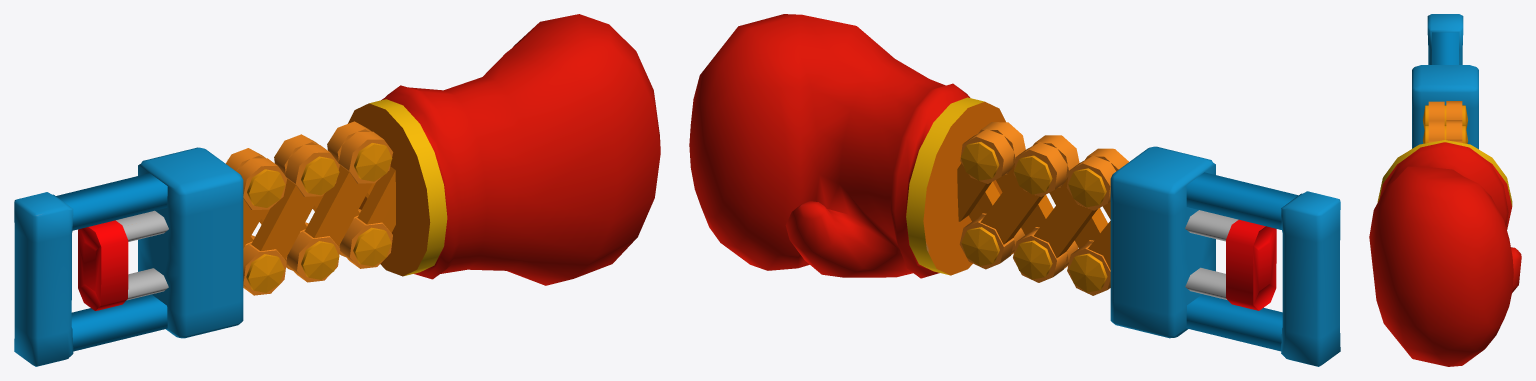
Rendered from BoxingGun (1).fbx.
The picture shows the model from 3 angles, left to right: view 1: azimuth 30°, elevation 25°; view 2: azimuth 150°, elevation 25°; view 3: azimuth 270°, elevation 25°; orthographic projection. The views are drawn at different scales.
Visible parts, largest first — view 1: Bone005, Object003, Bone009, Bone002, Bone007, Bone004, Bone003, Bone008, Bone001, Bone010; view 2: Bone005, Object003, Bone003, Bone008, Bone009, Bone002, Bone010, Bone001, Bone007, Bone004; view 3: Bone005, Object003, Bone007, Bone002, Bone003, Bone008.
Boxes of the visible parts, x1,y1,x2,y2 form: Bone005: [348, 14, 660, 285]; Object003: [14, 147, 243, 366]; Bone009: [286, 131, 393, 282]; Bone002: [243, 145, 339, 295]; Bone007: [236, 158, 287, 248]; Bone004: [339, 166, 395, 268]; Bone003: [274, 134, 391, 266]; Bone008: [225, 148, 339, 279]; Bone001: [243, 235, 284, 292]; Bone010: [327, 121, 375, 198]; Bone005: [689, 14, 1005, 278]; Object003: [1110, 146, 1340, 366]; Bone003: [959, 142, 1067, 269]; Bone008: [1013, 155, 1115, 282]; Bone009: [960, 122, 1078, 268]; Bone002: [1014, 135, 1107, 247]; Bone010: [957, 129, 1014, 221]; Bone001: [1067, 221, 1110, 295]; Bone007: [1068, 148, 1128, 219]; Bone004: [969, 181, 1024, 254]; Bone005: [1369, 140, 1521, 366]; Object003: [1412, 14, 1478, 149]; Bone007: [1423, 101, 1467, 129]; Bone002: [1423, 120, 1467, 143]; Bone003: [1446, 120, 1462, 139]; Bone008: [1446, 101, 1462, 119].
Bounding box in the file's own units: 245 × 87.7 × 68.02.
